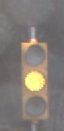Yellow: (13, 30, 59, 127)
